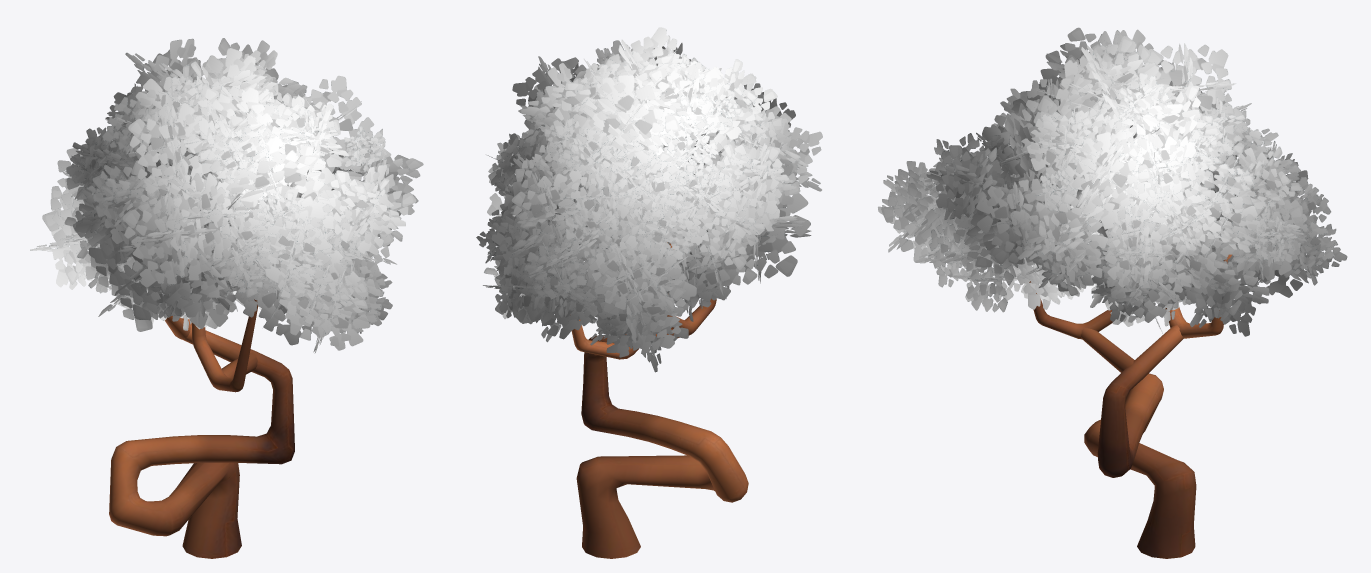
The model's file is STSwiggly3.glb.
3 views of the same model, side by side, from view 1: azimuth 30°, elevation 25°; view 2: azimuth 150°, elevation 25°; view 3: azimuth 270°, elevation 25° (orthographic). The views are drawn at different scales.
Parts seen in each view (by area): view 1: Leaf.031; view 2: Leaf.031; view 3: Leaf.031.
Part boxes in pixels (box(x1,y1,x2,y2)): Leaf.031: box(30, 38, 423, 558); Leaf.031: box(476, 27, 822, 558); Leaf.031: box(878, 27, 1347, 558).
Bounding box in the file's own units: 4.74 × 7.06 × 6.17.
Materials: 2 (2 with a texture image).
